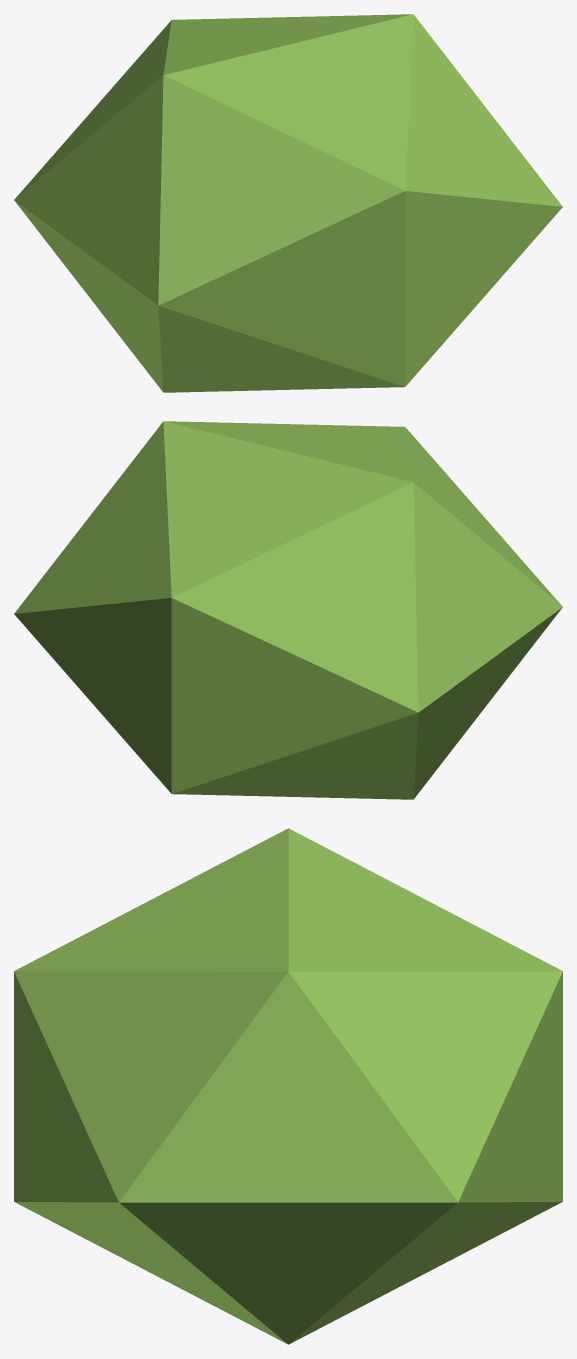
The model's file is crop.glb.
3 renders of one model, top to bottom at view 1: azimuth 30°, elevation 25°; view 2: azimuth 150°, elevation 25°; view 3: azimuth 270°, elevation 25°, orthographic. The views are drawn at different scales.
Visible parts, largest first — view 1: crop; view 2: crop; view 3: crop.
Boxes of the visible parts, bbox=[...] form: crop: bbox=[14, 14, 562, 392]; crop: bbox=[14, 421, 562, 799]; crop: bbox=[14, 828, 562, 1344].
Size of the model in its own units: 0.051 by 0.0383 by 0.051.
